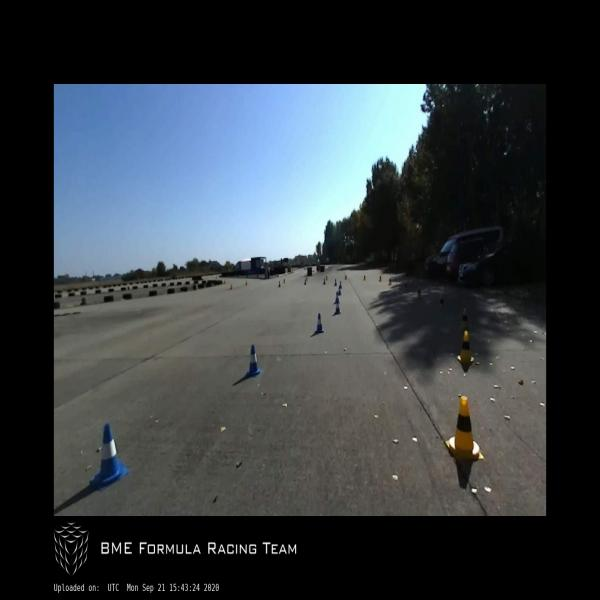blue_cone: (91, 424, 129, 491), (246, 344, 262, 377), (315, 313, 325, 334), (334, 300, 341, 314), (334, 292, 340, 304), (338, 286, 341, 295), (334, 279, 337, 286), (340, 280, 342, 288)
yellow_cone: (445, 396, 486, 460), (457, 331, 475, 365), (458, 307, 470, 330), (437, 294, 447, 312), (417, 286, 421, 299), (404, 281, 408, 291), (389, 278, 392, 285), (379, 275, 382, 282)
